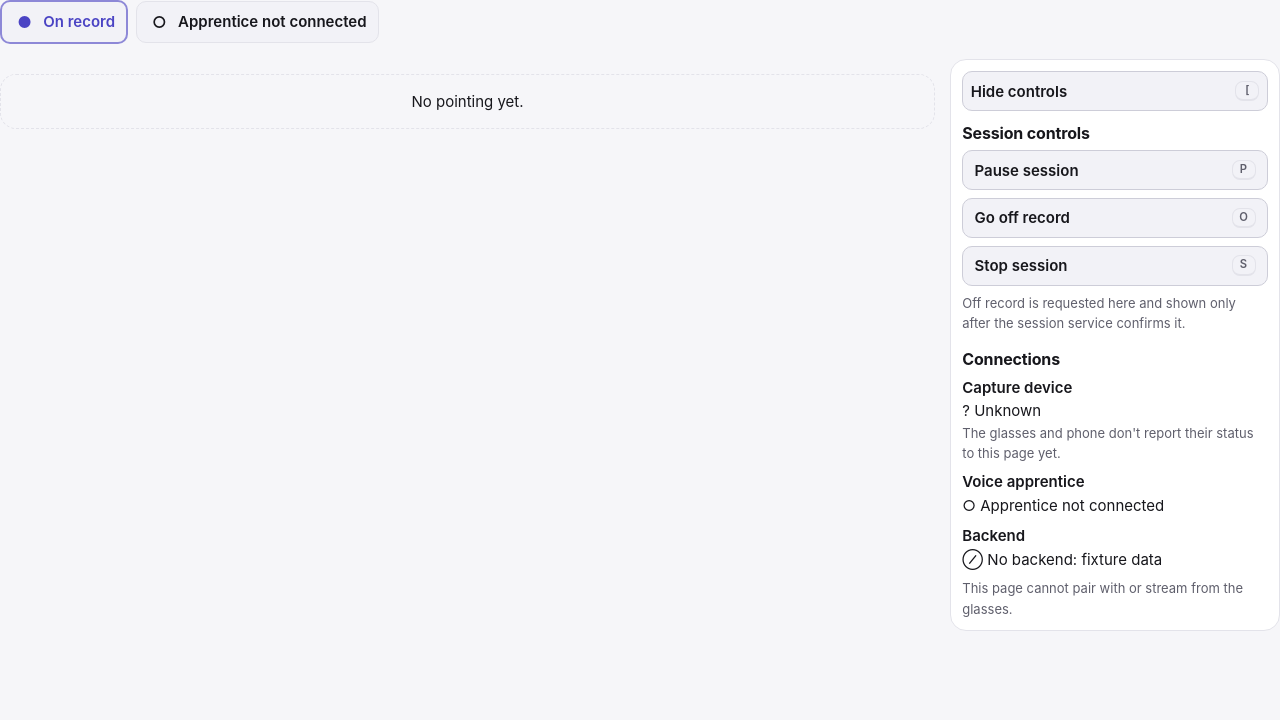
Test: ExpertCompanion: off-record is shown only after acknowledgement › a failed ack shows an error and keeps the previous state
Check: the element with test id "control-rail" is shown, box [950, 59, 1279, 631]
Step 1. Click the button "Go off record O" → [1022, 218], box [962, 198, 1268, 238]
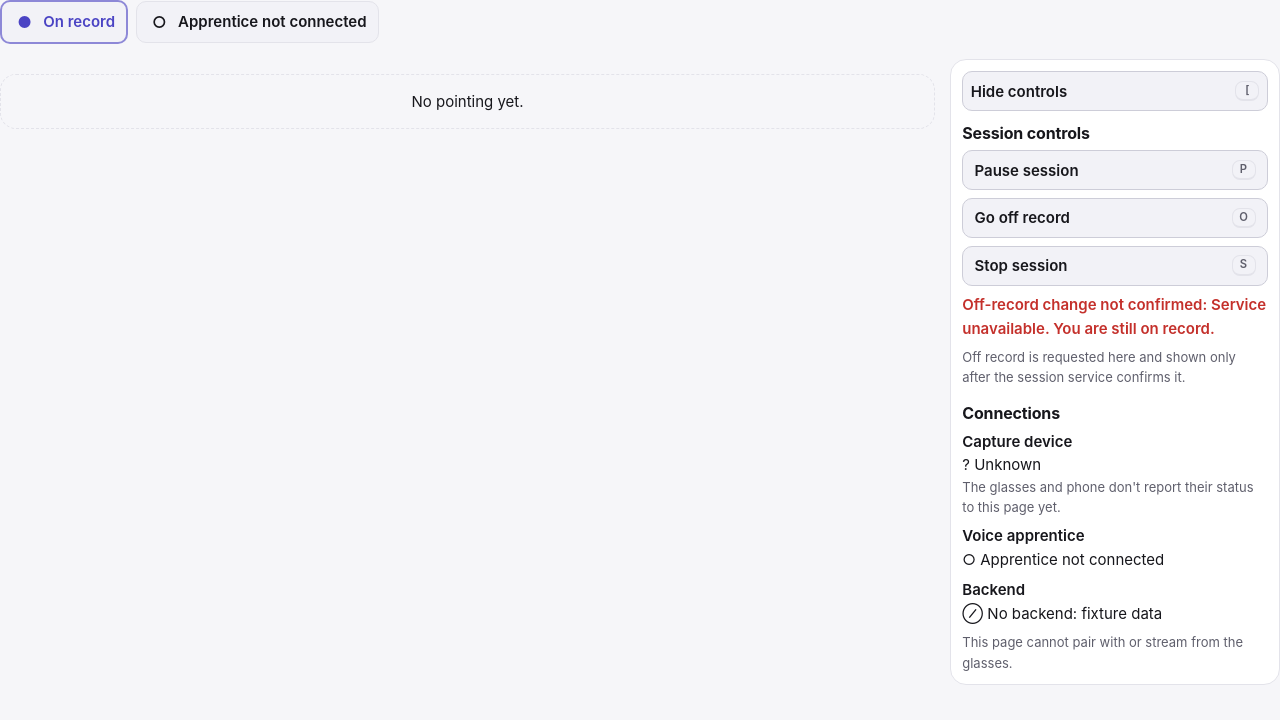
Check: the message "Off-record change not confirmed: Service unavailable. You are still on record." is shown, box [962, 293, 1268, 340]
